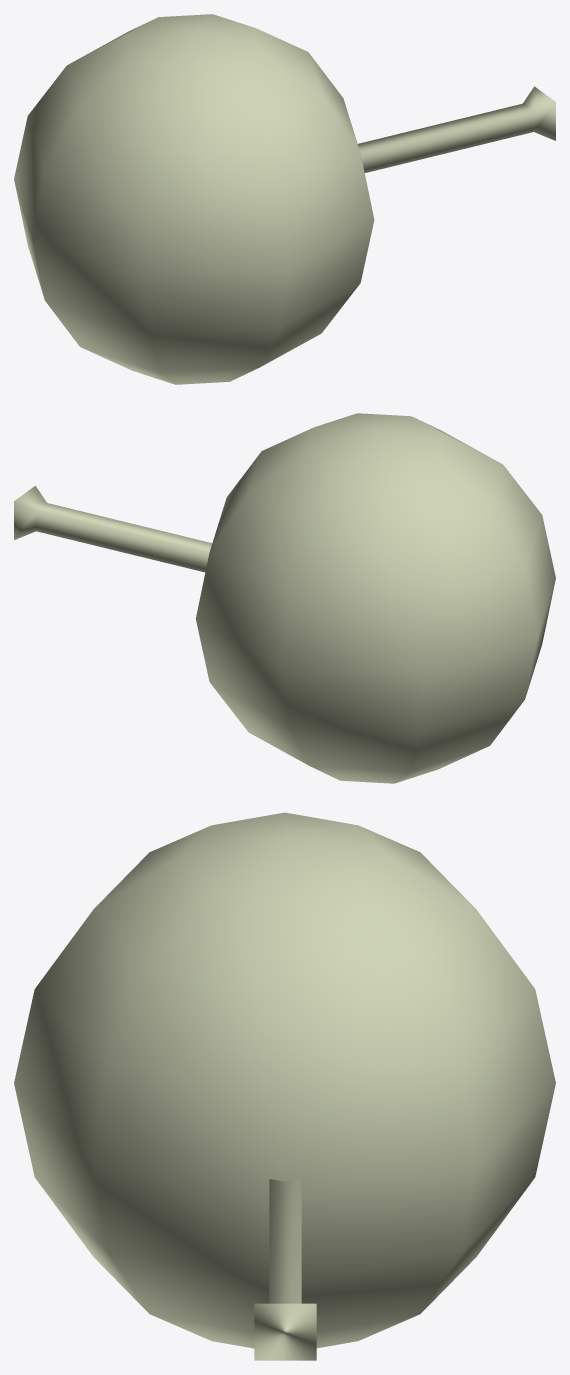
Rendered from Turret.obj.
3 renders of one model, top to bottom at view 1: azimuth 30°, elevation 25°; view 2: azimuth 150°, elevation 25°; view 3: azimuth 270°, elevation 25°, orthographic. The views are drawn at different scales.
Visible parts, largest first — view 1: turret, cube4_copy7; view 2: turret, cube4_copy7; view 3: turret, cube4_copy7.
Part boxes in pixels (x1,y1,x2,y2): turret: [14, 14, 374, 384]; cube4_copy7: [358, 86, 555, 172]; turret: [196, 413, 555, 783]; cube4_copy7: [14, 486, 212, 572]; turret: [14, 812, 555, 1348]; cube4_copy7: [254, 1179, 316, 1360].
Size of the model in its own units: 2.68 by 1.69 by 1.69.
